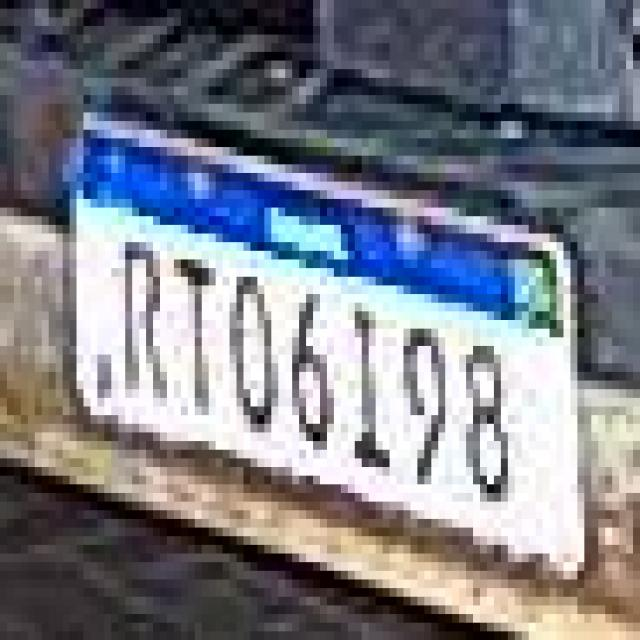6: (281, 268, 341, 460)
9: (461, 314, 514, 516), (399, 306, 454, 493)
I: (348, 294, 389, 488)
O: (230, 261, 284, 450)
R: (104, 213, 169, 415)
T: (176, 239, 223, 442)
